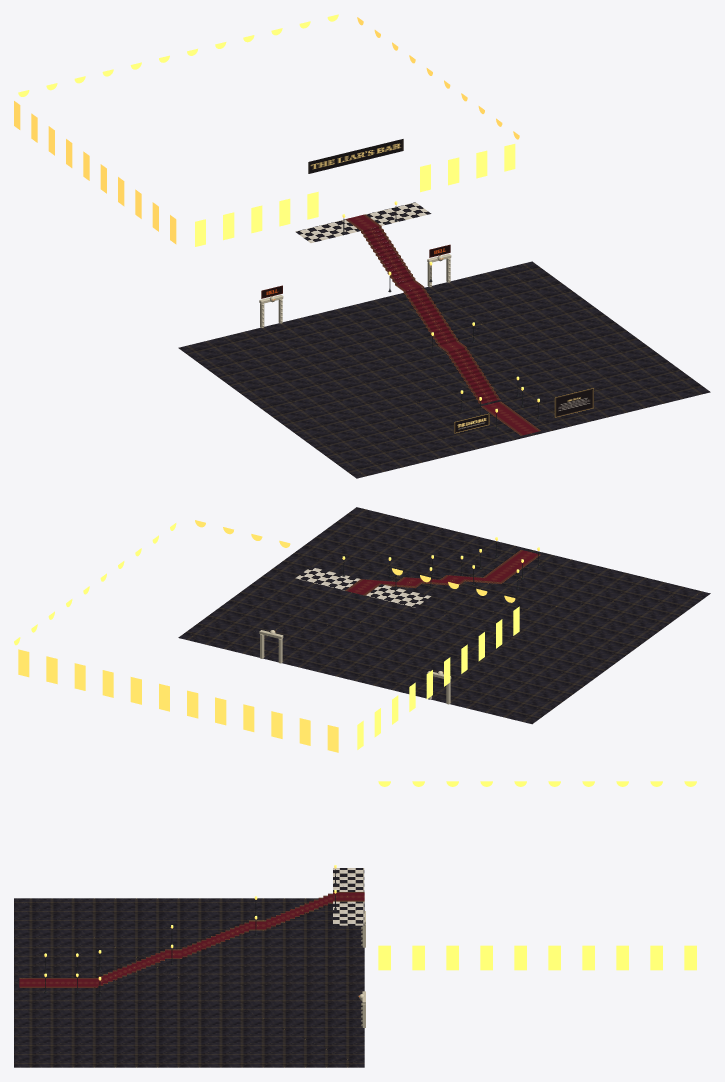
File: lb4_outside_p3.glb
The picture shows the model from 3 angles, top to bottom: view 1: azimuth 30°, elevation 25°; view 2: azimuth 150°, elevation 25°; view 3: azimuth 270°, elevation 25°; orthographic projection.
Parts seen in each view (by area): view 1: lb4_outside_p3; view 2: lb4_outside_p3; view 3: lb4_outside_p3.
Part boxes in pixels (bbox=[...]): lb4_outside_p3: bbox=[14, 14, 710, 478]; lb4_outside_p3: bbox=[14, 507, 710, 752]; lb4_outside_p3: bbox=[14, 781, 696, 1067].
Bounding box in the file's own units: 76 × 31.75 × 132.
11 materials, 8 textured.
